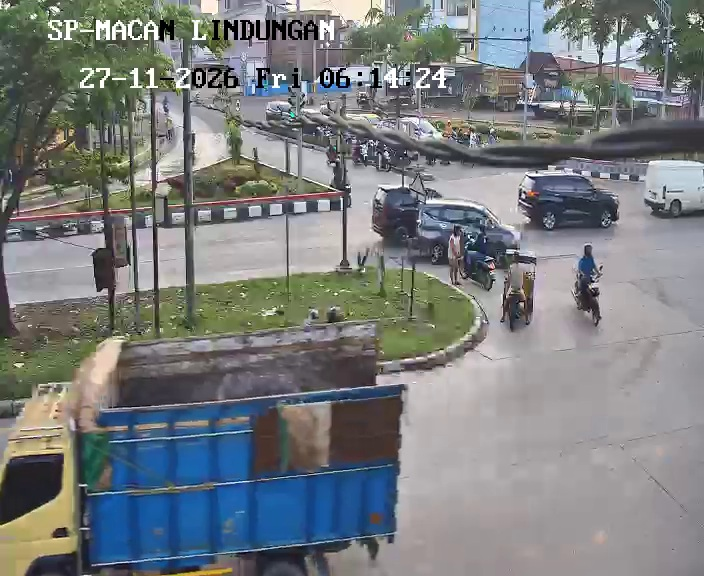Gerobak: (500, 249, 537, 330)
